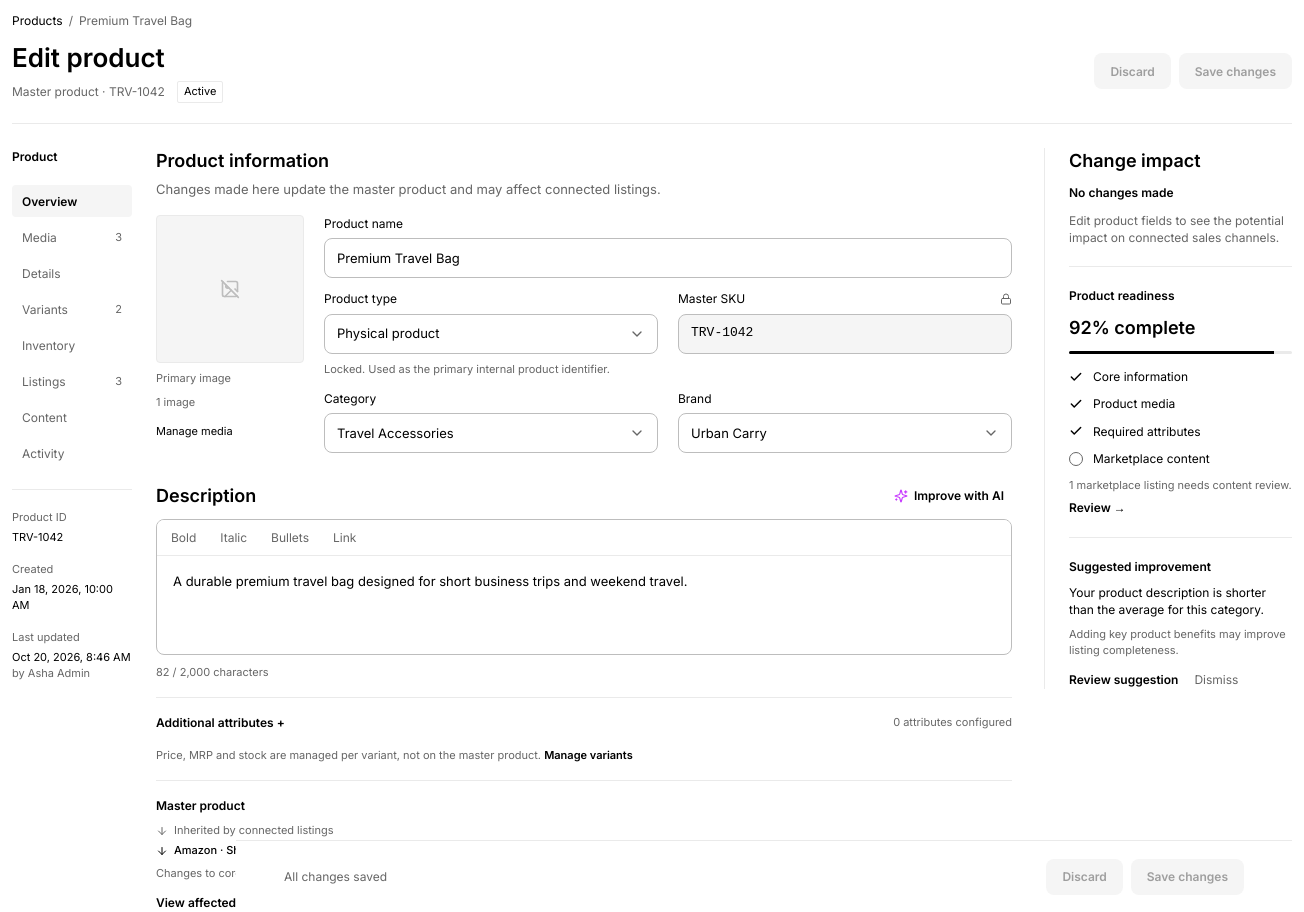
Scenario: EditProductPage › marks a modified field with its previous value and Revert puts it back
In the field labelled "Product name": {"x": 668, "y": 258} [337,249,999,268], type " Pro"
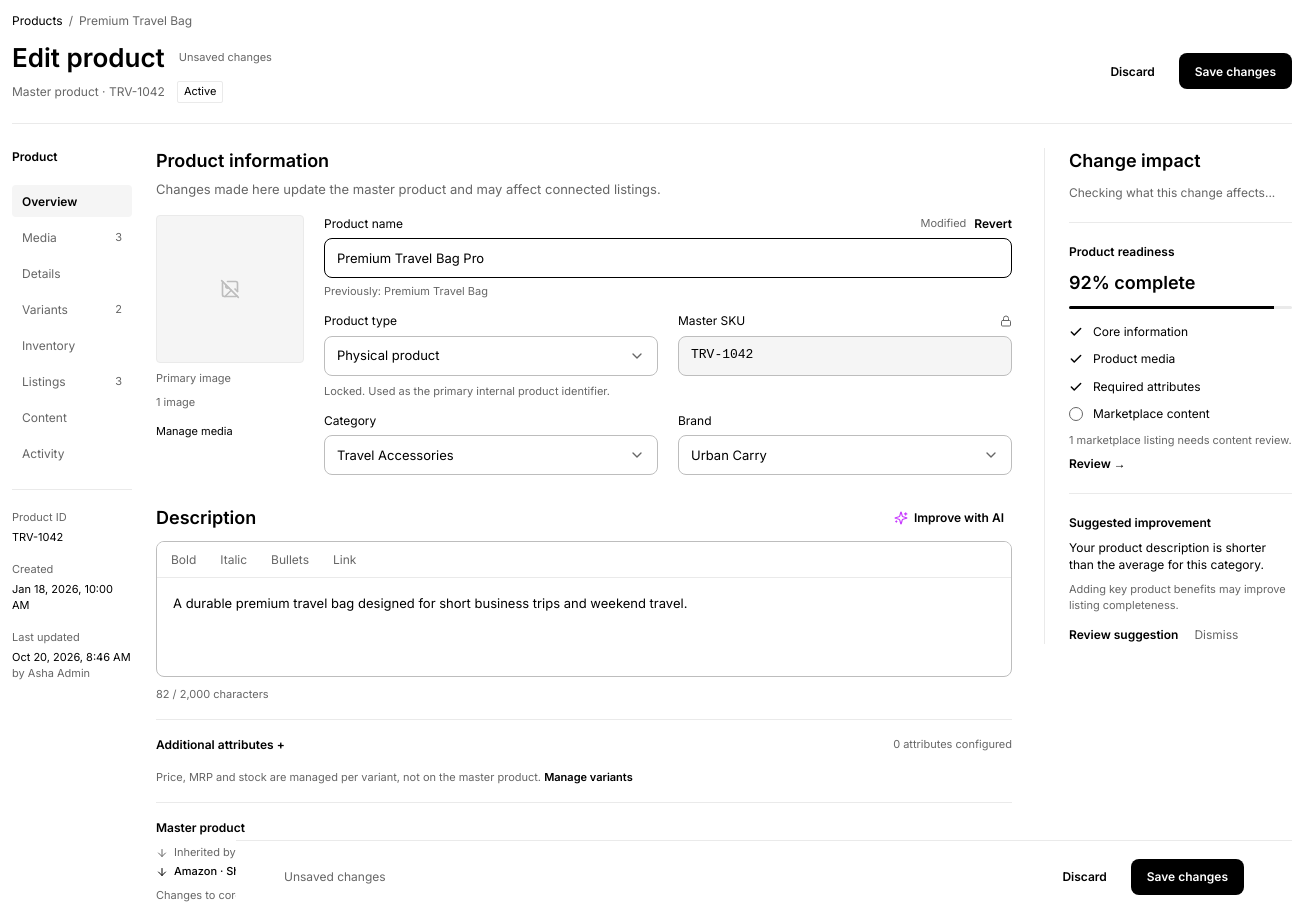
Expected: the text "Unsaved changes" is shown, [179,50,272,66]
Expected: the text "Modified" is shown, [920,215,966,232]
Expected: the text "Previously: Premium Travel Bag" is shown, [324,284,488,298]
Click the button with aria-label "Revert Product name": {"x": 993, "y": 224} [974,215,1012,232]
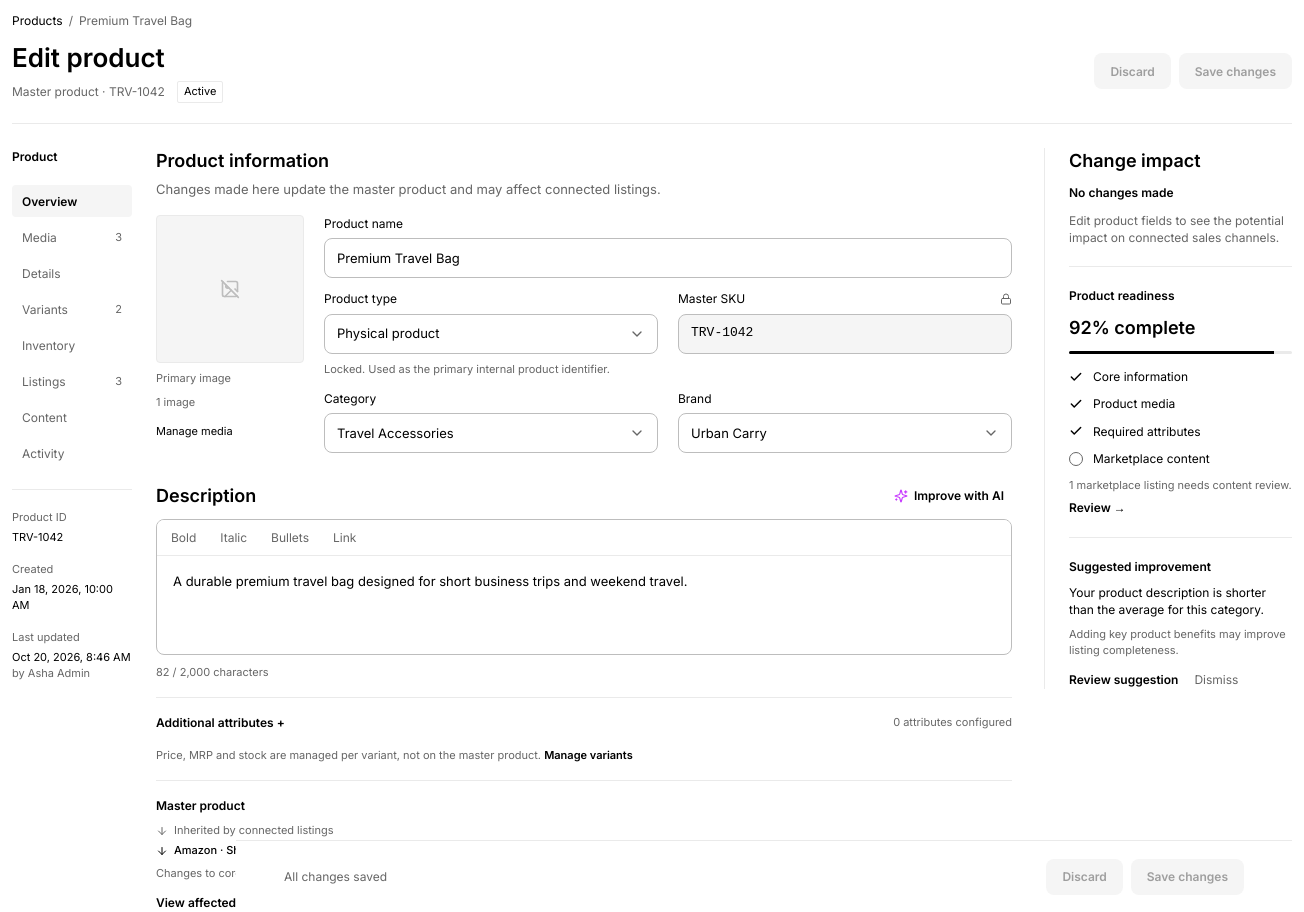
Expected: the field labelled "Product name" holds "Premium Travel Bag", [337,249,999,268]
Expected: the text "Modified" is gone
Expected: the button "Save changes" in the row of "Active" is disabled, [1179,53,1292,89]
